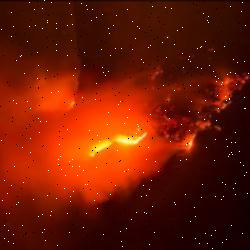fire: (33, 63, 250, 182)
